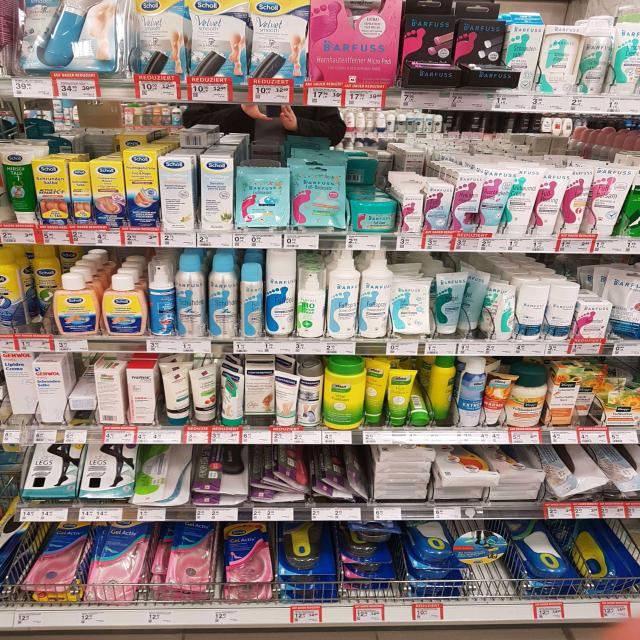unorganised: (1, 353, 35, 428), (461, 264, 490, 333), (438, 461, 499, 493), (362, 355, 390, 424), (430, 355, 456, 423), (29, 243, 59, 301), (219, 364, 245, 427), (494, 285, 519, 342), (408, 380, 432, 428), (578, 373, 601, 422), (72, 365, 95, 414)
